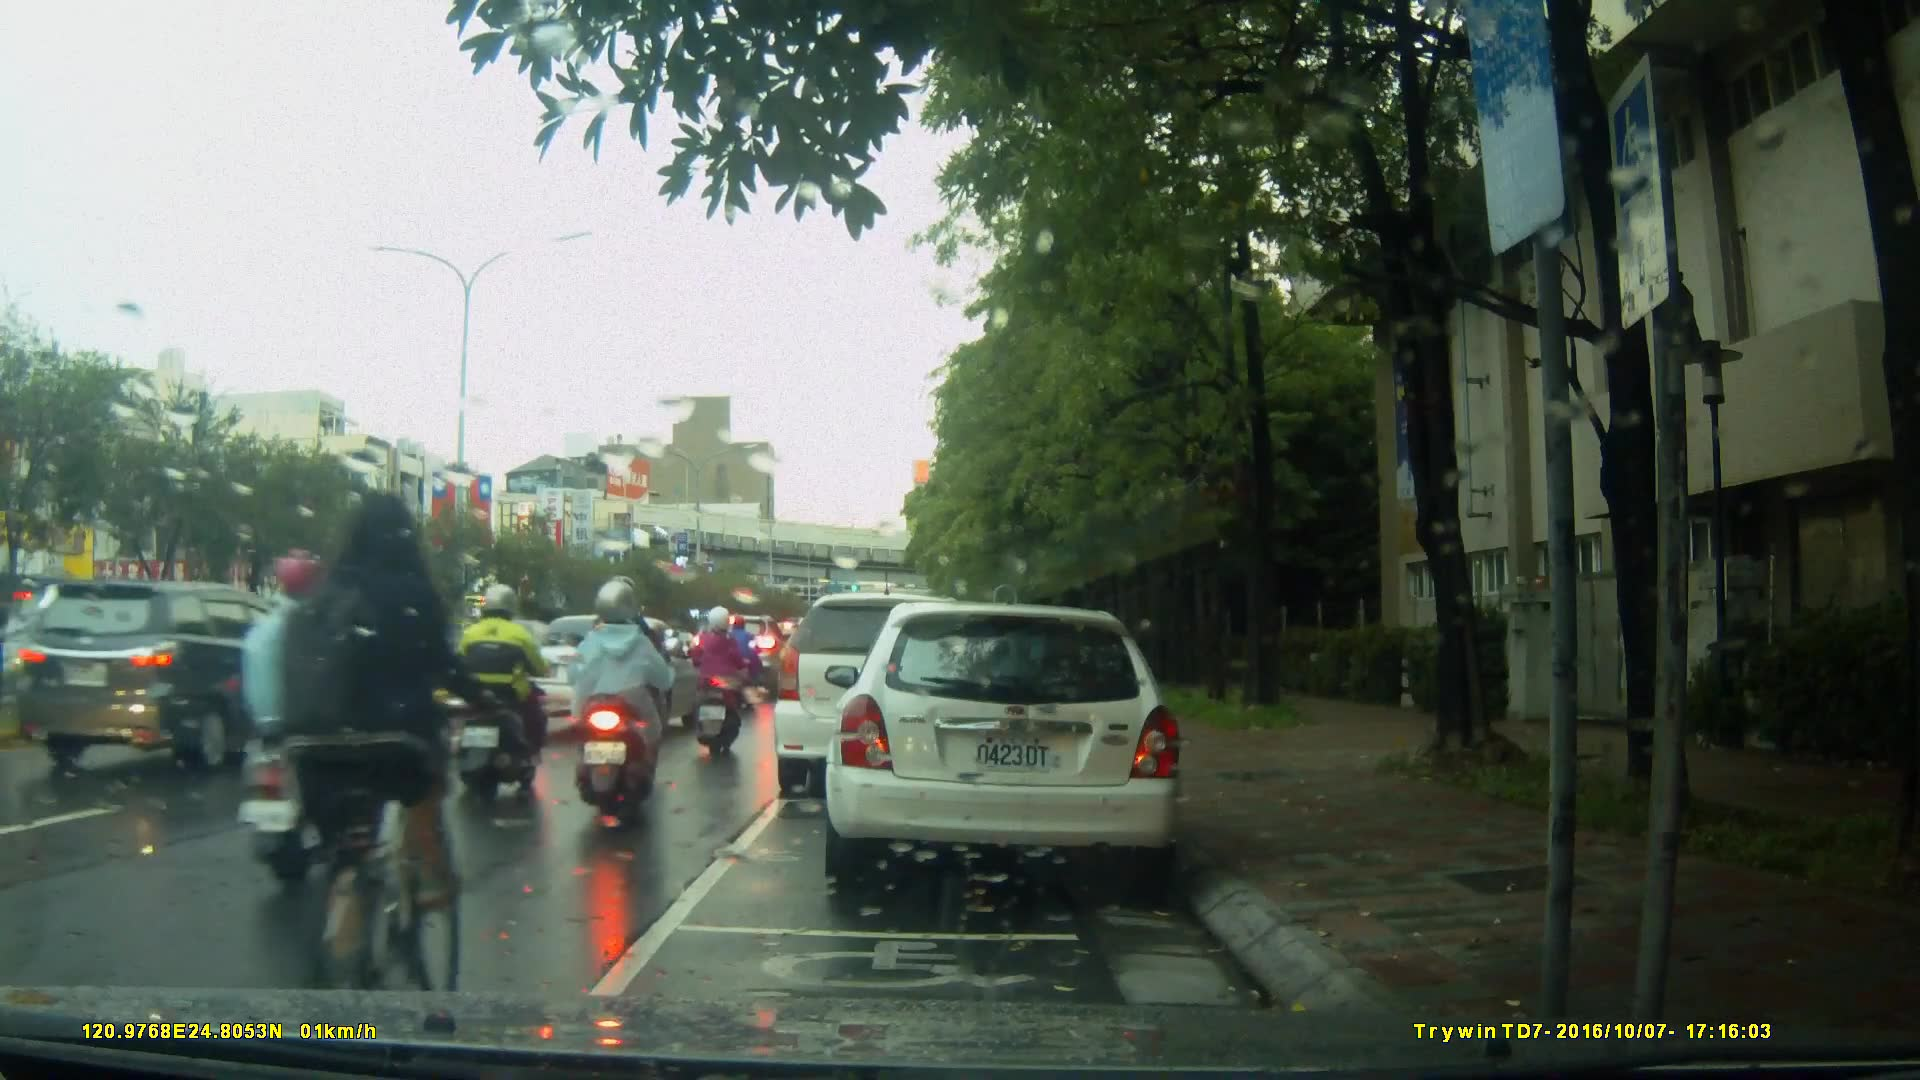rider: (275, 483, 498, 1013), (250, 545, 384, 904), (578, 577, 670, 827), (457, 582, 561, 798), (591, 579, 676, 784), (684, 610, 748, 765), (719, 610, 762, 693)
vehicle: (822, 604, 1188, 883), (28, 577, 345, 782), (774, 595, 995, 802), (693, 614, 794, 702)
